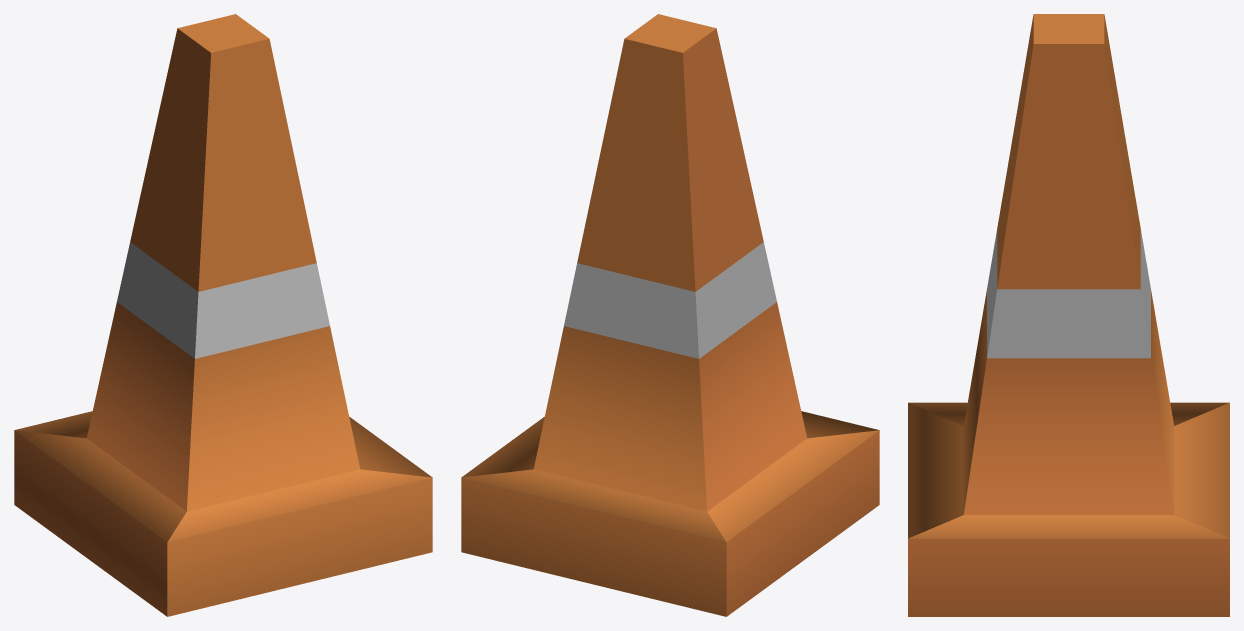
The model's file is AI_Prop_Cone.fbx.
3 renders of one model, left to right at view 1: azimuth 30°, elevation 25°; view 2: azimuth 150°, elevation 25°; view 3: azimuth 270°, elevation 25°, orthographic. The views are drawn at different scales.
Visible parts, largest first — view 1: AI_Prop_Cone; view 2: AI_Prop_Cone; view 3: AI_Prop_Cone.
Boxes of the visible parts, bbox=[...] form: AI_Prop_Cone: bbox=[14, 14, 432, 616]; AI_Prop_Cone: bbox=[461, 14, 879, 616]; AI_Prop_Cone: bbox=[908, 14, 1229, 616].
Bounding box in the file's own units: 0.8246 × 1.47 × 0.8246.
